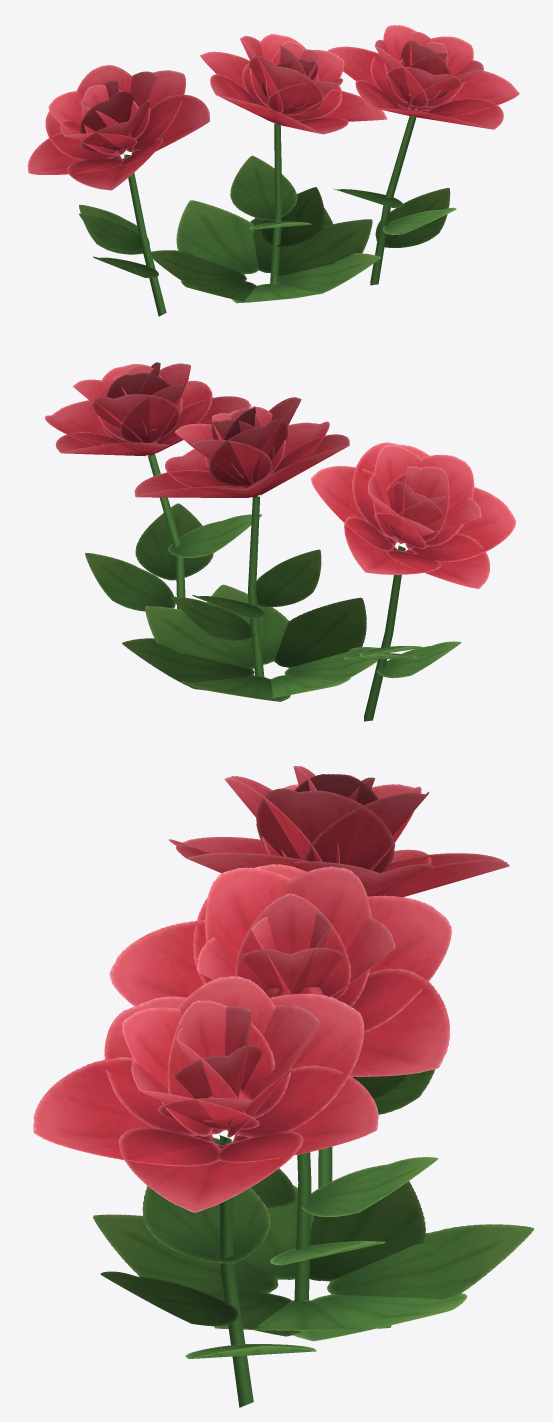
The model's file is flower-rose.glb.
3 renders of one model, top to bottom at view 1: azimuth 30°, elevation 25°; view 2: azimuth 150°, elevation 25°; view 3: azimuth 270°, elevation 25°, orthographic. The views are drawn at different scales.
Parts seen in each view (by area): view 1: Flower; view 2: Flower; view 3: Flower.
Boxes of the visible parts, <box> form: Flower: <box>27,25,519,316</box>; Flower: <box>44,362,516,721</box>; Flower: <box>33,766,533,1407</box>.
Size of the model in its own units: 0.8723 by 0.4858 by 0.4849.
1 material, 1 textured.
